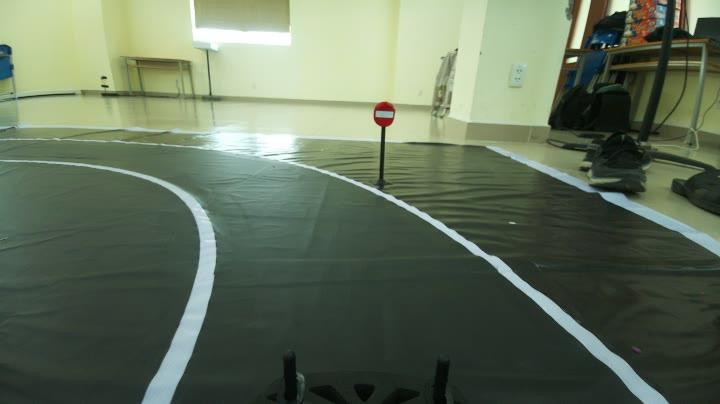no_entry: (364, 96, 408, 134)
